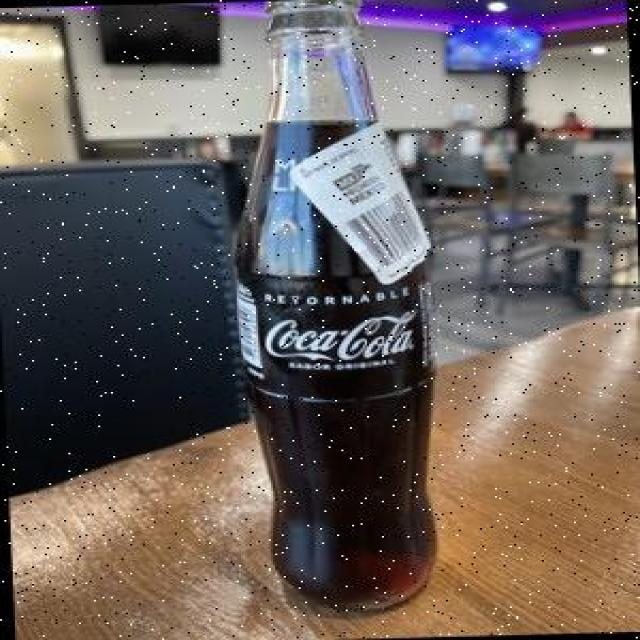coca-cola: (218, 0, 452, 618)
